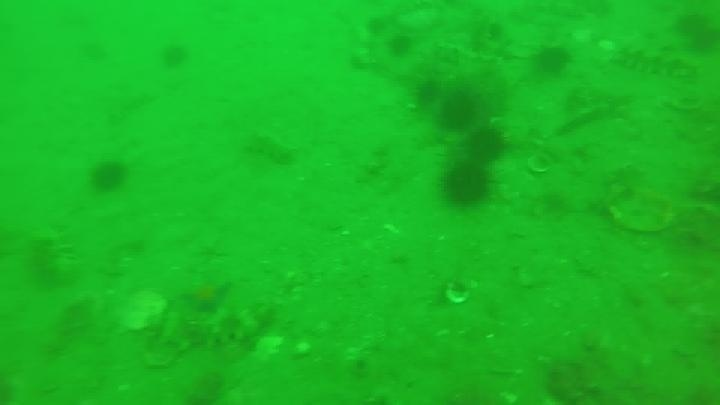echinus: (440, 160, 493, 209), (436, 88, 480, 133), (465, 125, 508, 164), (88, 158, 129, 195), (533, 44, 573, 77), (412, 77, 444, 109), (158, 41, 190, 71), (386, 32, 415, 59)
holothurian: (155, 304, 270, 353), (610, 43, 699, 82), (26, 226, 78, 288), (241, 131, 297, 166)
